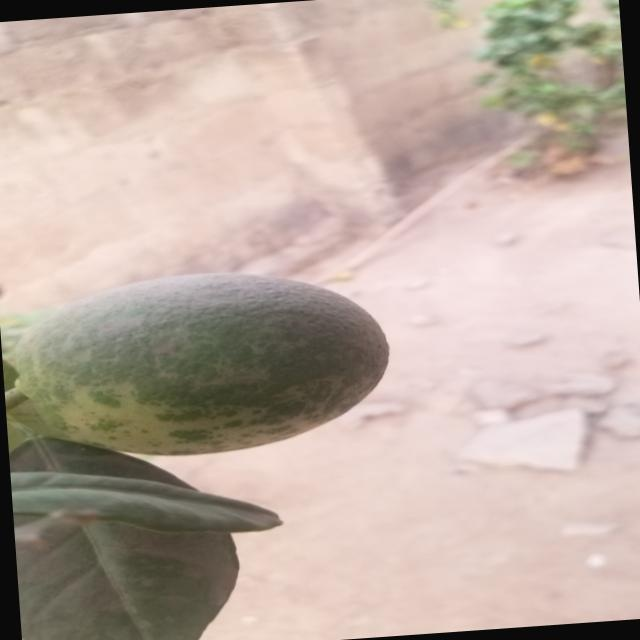agrume: (4, 262, 388, 466)
